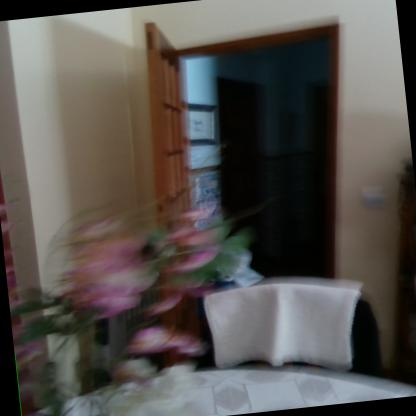open: (127, 0, 368, 347)
